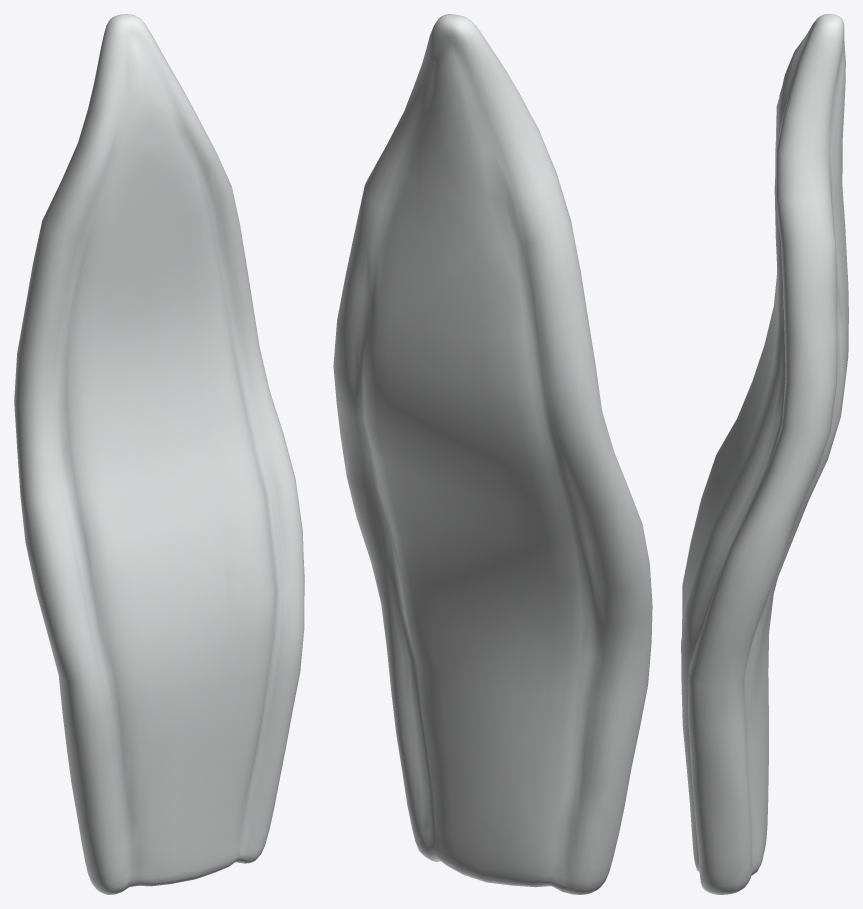
File: T1_sanse_meshy5_1500_prompt3.glb
3 renders of one model, left to right at view 1: azimuth 30°, elevation 25°; view 2: azimuth 150°, elevation 25°; view 3: azimuth 270°, elevation 25°, orthographic. The views are drawn at different scales.
Size of the model in its own units: 0.6696 by 2 by 0.3609.
Materials: 1 (1 with a texture image).
